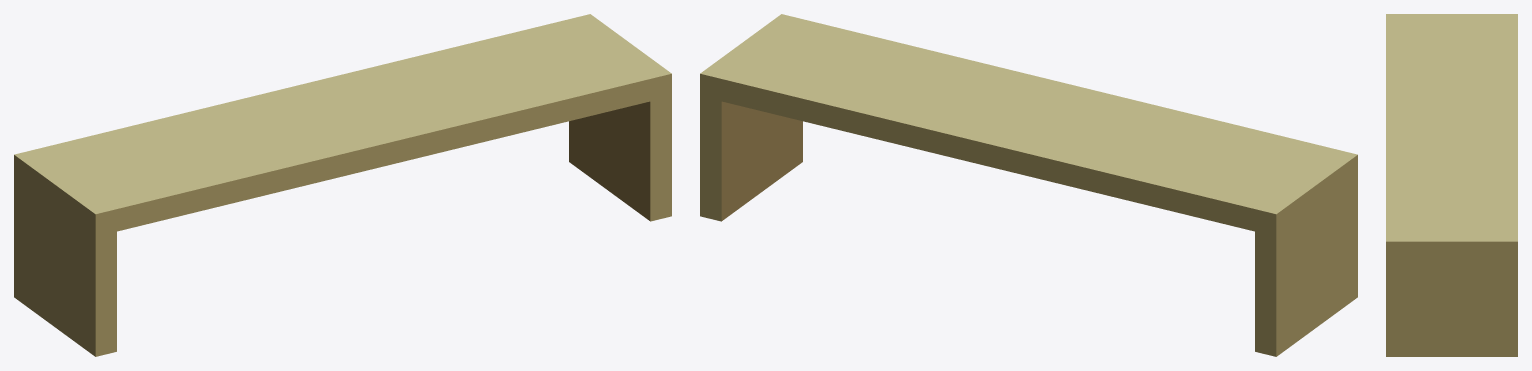
File: bench_002.fbx
3 renders of one model, left to right at view 1: azimuth 30°, elevation 25°; view 2: azimuth 150°, elevation 25°; view 3: azimuth 270°, elevation 25°, orthographic. The views are drawn at different scales.
Parts seen in each view (by area): view 1: bench_002; view 2: bench_002; view 3: bench_002.
Part boxes in pixels (left/top/right/bottom): bench_002: left=14, top=14, right=671, bottom=356; bench_002: left=700, top=14, right=1357, bottom=356; bench_002: left=1386, top=14, right=1517, bottom=356.
Size of the model in its own units: 211 by 49.81 by 51.61.
